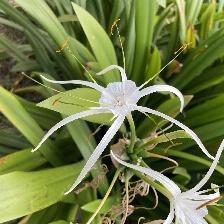spider lily: (32, 64, 224, 195)
